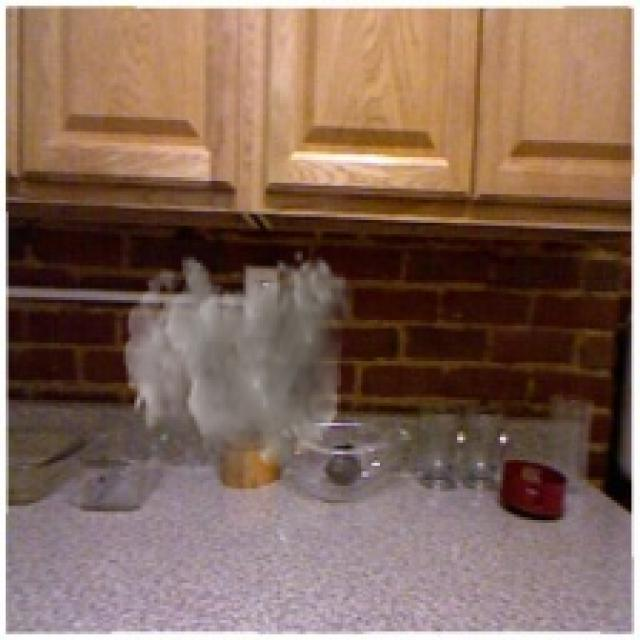Smoke: (122, 249, 352, 497)
